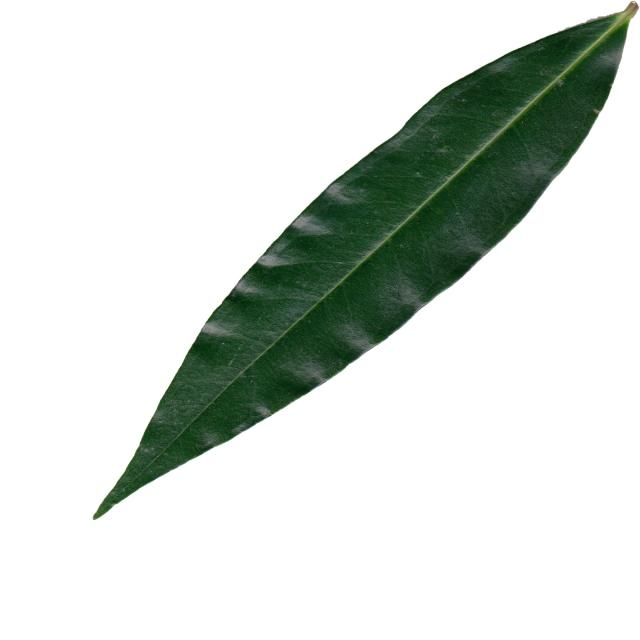Medicinal-Rose Apple: (92, 0, 636, 522)
